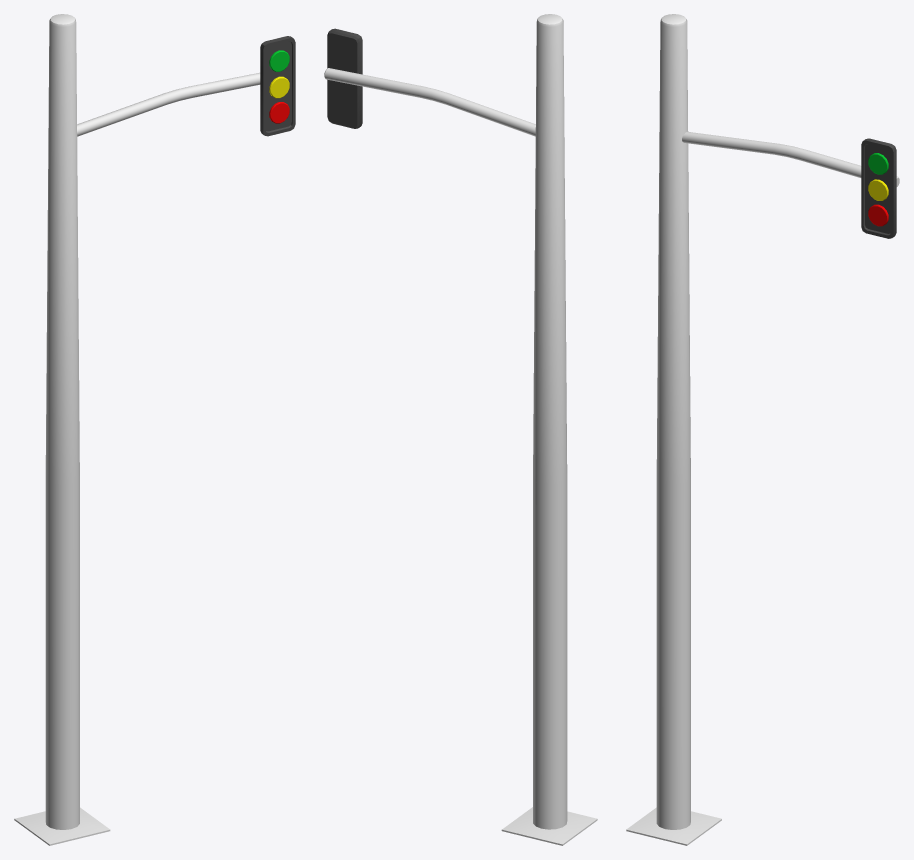
Rendered from modular-city-road-pack-game-ready-cylinder-001-15.glb.
The picture shows the model from 3 angles, left to right: view 1: azimuth 30°, elevation 25°; view 2: azimuth 150°, elevation 25°; view 3: azimuth 330°, elevation 25°; orthographic projection.
Parts seen in each view (by area): view 1: Cylinder.001_15; view 2: Cylinder.001_15; view 3: Cylinder.001_15.
Part boxes in pixels (x1=…): Cylinder.001_15: x1=14, y1=14, x2=295, y2=845; Cylinder.001_15: x1=324, y1=14, x2=597, y2=845; Cylinder.001_15: x1=626, y1=14, x2=899, y2=845.
Size of the model in its own units: 0.6768 by 2.04 by 0.1605.
Materials: 1 (1 with a texture image).
